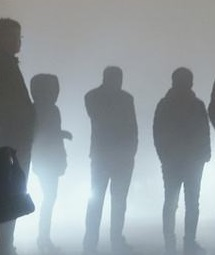person: (152, 65, 214, 255), (82, 64, 143, 255), (25, 60, 76, 255), (1, 17, 37, 254)
